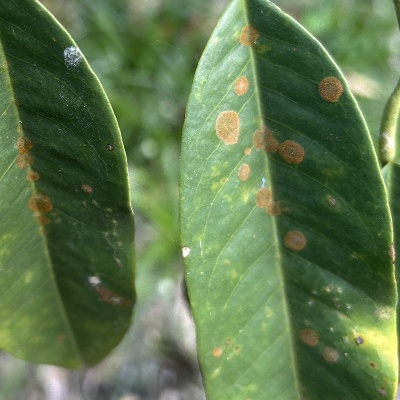Leaf_Algal: (0, 0, 138, 373)
